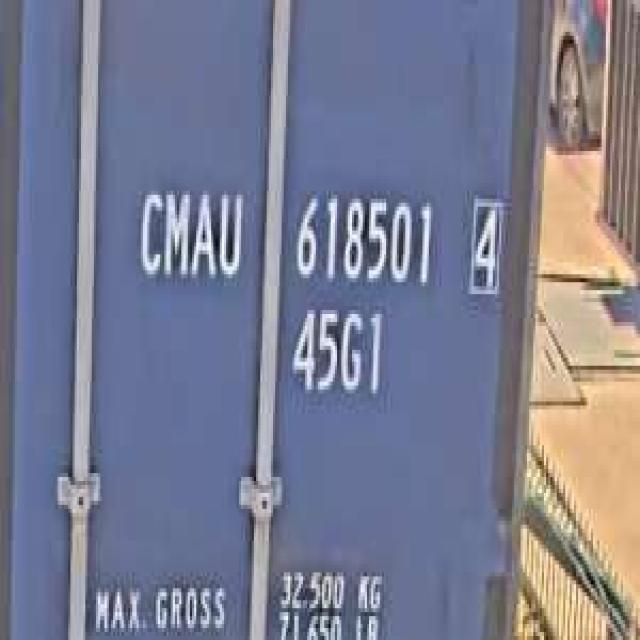dv: (463, 187, 506, 302)
owner: (134, 171, 246, 294)
serial: (290, 183, 437, 294)
size: (286, 298, 386, 406)
